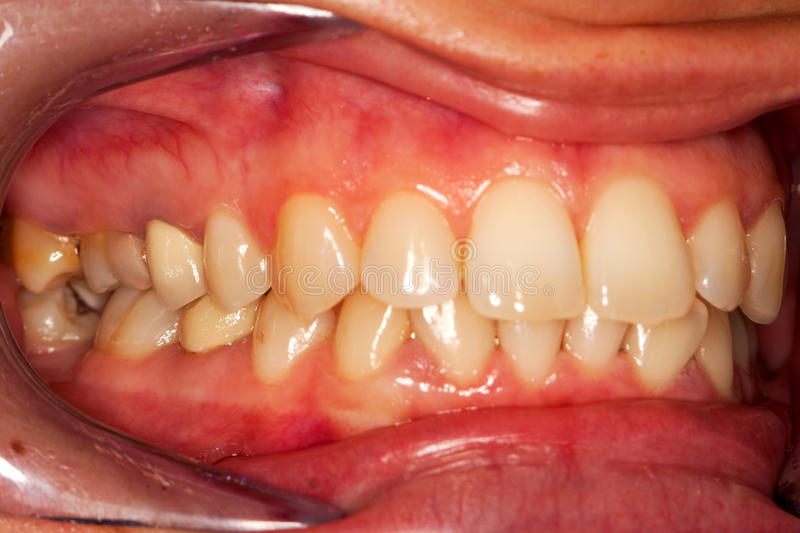normal: (465, 178, 584, 320), (585, 176, 694, 323), (364, 202, 460, 305), (623, 297, 706, 385), (409, 303, 496, 384), (204, 206, 267, 308), (691, 205, 748, 312), (498, 302, 561, 380), (748, 205, 784, 325), (148, 224, 201, 303), (563, 298, 623, 360), (697, 295, 731, 395), (729, 305, 756, 364)
yellow: (270, 194, 360, 316), (254, 294, 333, 378), (334, 290, 404, 380), (93, 282, 174, 356), (15, 287, 95, 352), (12, 218, 79, 289), (81, 230, 150, 289), (180, 298, 254, 349)
